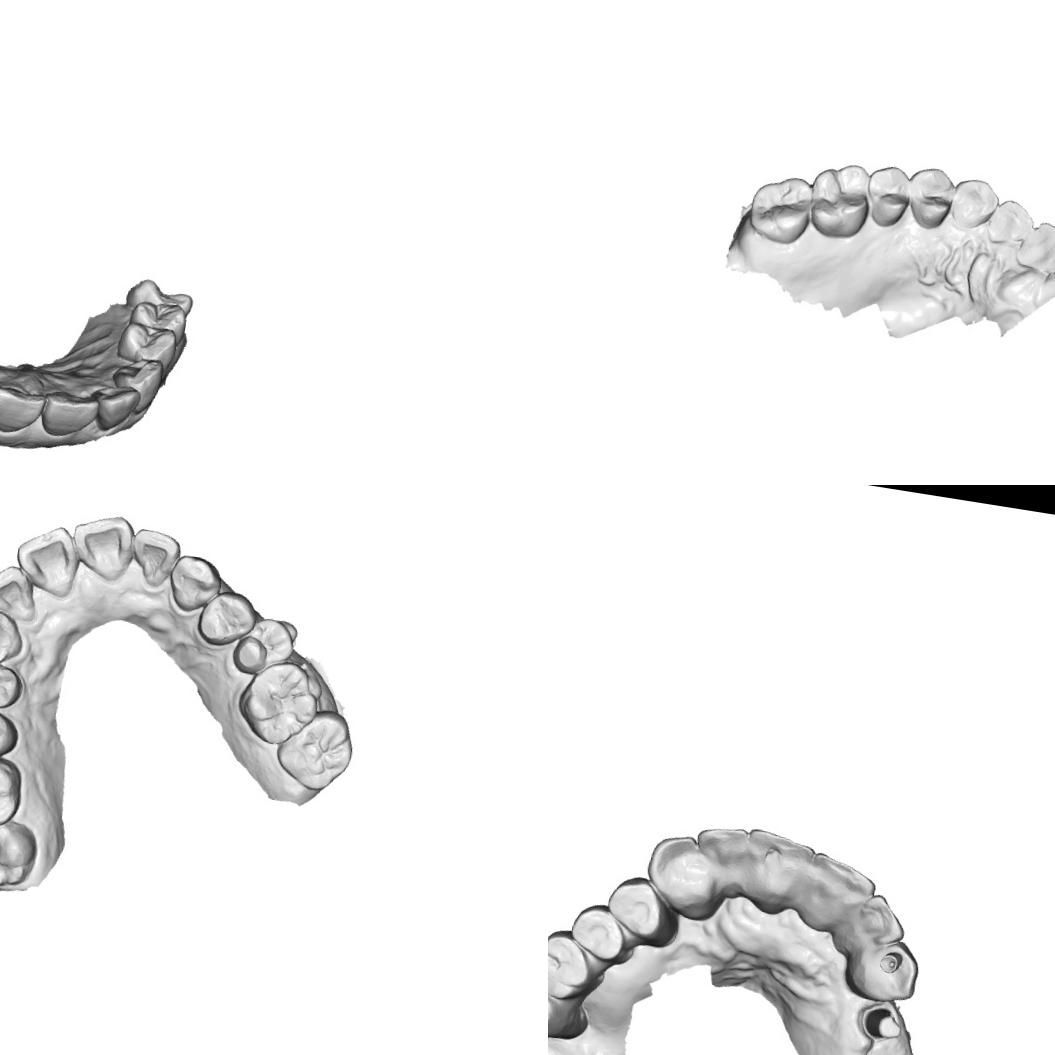abutment: (853, 998, 908, 1046)
canine: (639, 829, 726, 924), (844, 934, 926, 1006), (163, 550, 226, 616), (948, 175, 1002, 233), (109, 355, 167, 406), (0, 604, 29, 668)
incisor: (797, 849, 881, 940), (736, 825, 817, 917), (8, 518, 84, 600), (829, 887, 911, 962), (64, 508, 138, 586), (688, 820, 752, 900), (125, 525, 184, 590), (0, 372, 47, 434), (0, 559, 44, 625), (985, 196, 1037, 249), (45, 390, 100, 436), (94, 386, 142, 437), (1013, 217, 1055, 275)
molar: (232, 654, 326, 752), (271, 699, 362, 798), (804, 158, 875, 242), (745, 170, 816, 248), (548, 926, 609, 1007), (548, 965, 595, 1044), (0, 810, 42, 894), (0, 749, 28, 833), (130, 276, 196, 308)
premolar: (602, 871, 680, 947), (564, 897, 640, 967), (229, 613, 298, 681), (193, 586, 259, 654), (902, 164, 957, 232), (862, 162, 915, 231), (115, 320, 182, 366), (125, 294, 190, 336), (0, 655, 27, 716), (0, 703, 23, 763)
